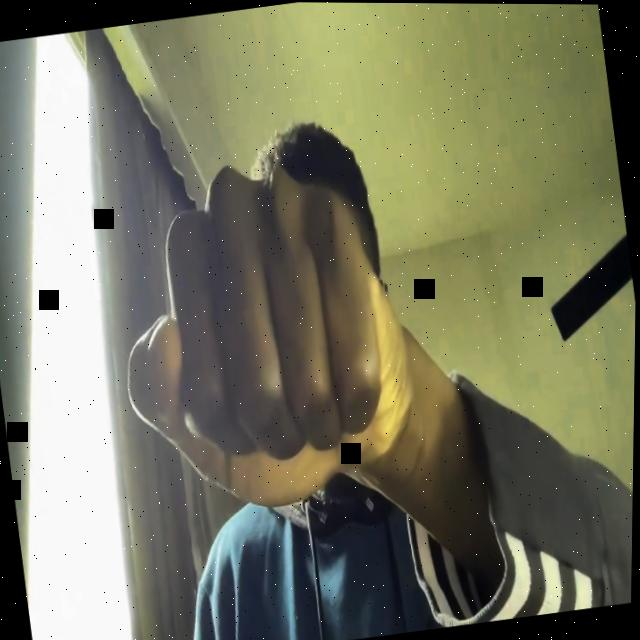Rock: (99, 142, 429, 529)
